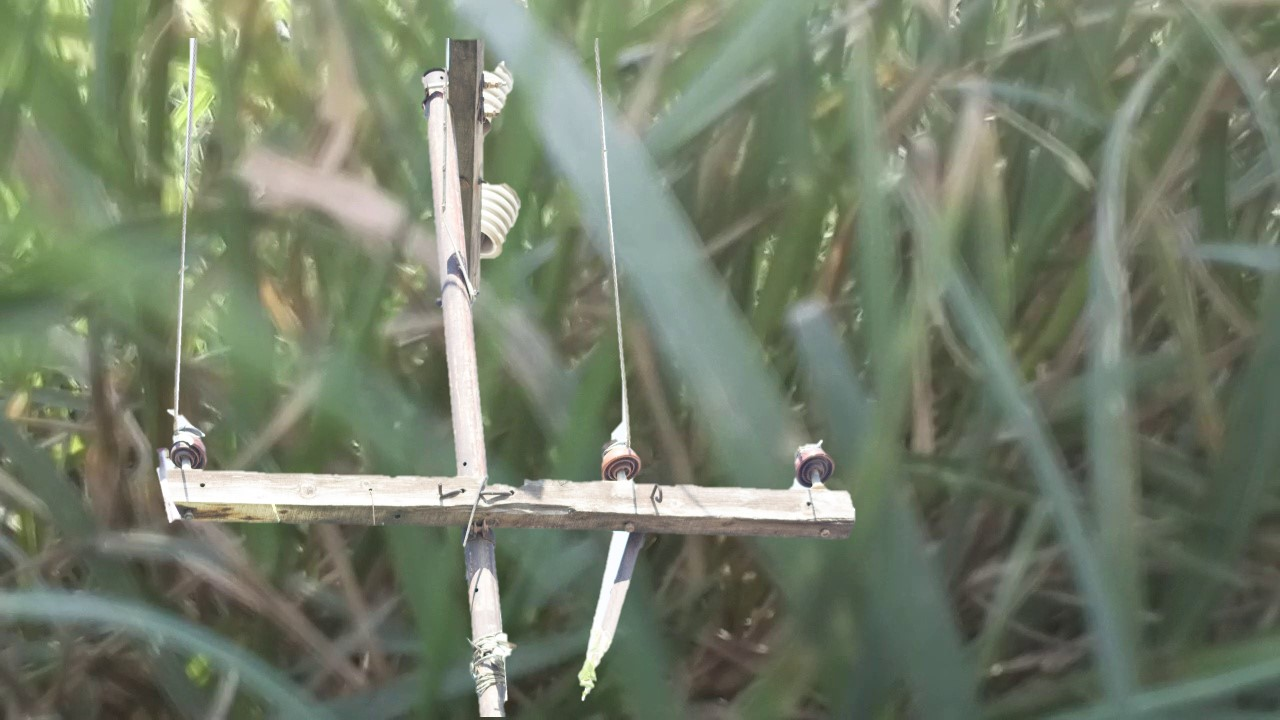defect_pin: (165, 423, 211, 468)
insulator_pin: (789, 437, 837, 487), (597, 440, 646, 478)
